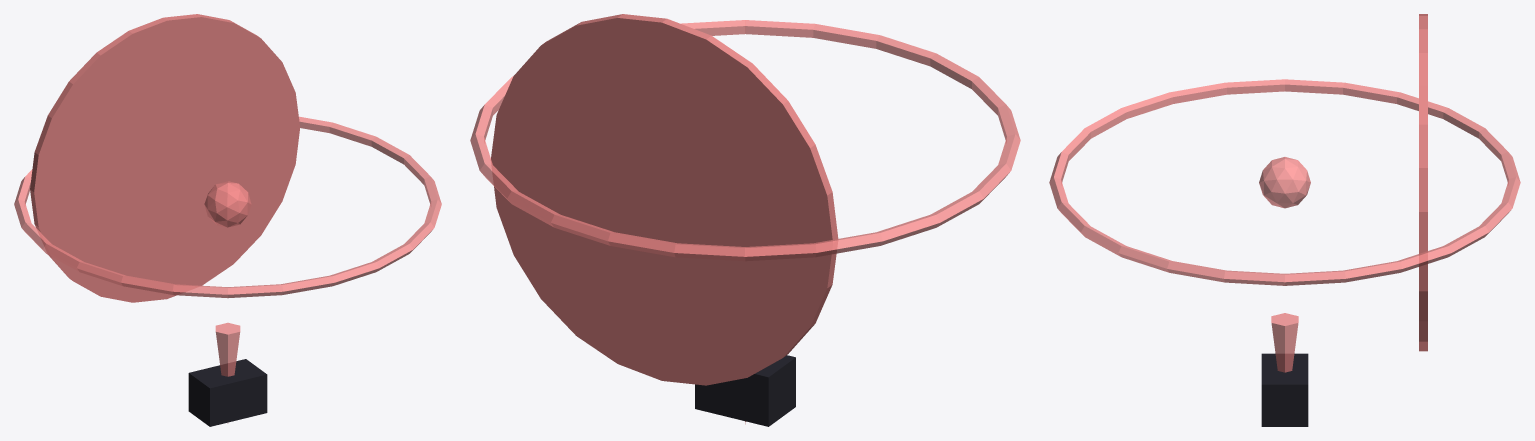
The model's file is 05_combat_start_camera_rig.glb.
3 renders of one model, left to right at view 1: azimuth 30°, elevation 25°; view 2: azimuth 150°, elevation 25°; view 3: azimuth 270°, elevation 25°, orthographic. The views are drawn at different scales.
Visible parts, largest first — view 1: combat_start_trigger_disc, camera_orbit_track, camera_proxy, target_focus_point, look_vector; view 2: combat_start_trigger_disc, camera_orbit_track, camera_proxy; view 3: camera_orbit_track, camera_proxy, combat_start_trigger_disc, target_focus_point, look_vector.
Part boxes in pixels (x1,y1,x2,y2): combat_start_trigger_disc: (30,14,300,302); camera_orbit_track: (14,116,441,298); camera_proxy: (188,359,267,426); target_focus_point: (204,181,251,227); look_vector: (215,322,240,423); combat_start_trigger_disc: (491,14,838,385); camera_orbit_track: (470,20,1020,261); camera_proxy: (695,355,795,426); camera_orbit_track: (1049,79,1520,285); camera_proxy: (1261,353,1308,426); combat_start_trigger_disc: (1419,14,1427,351); target_focus_point: (1259,157,1310,208); look_vector: (1271,313,1298,372).
Bounding box in the file's own units: 1.81 × 1.68 × 1.81.
